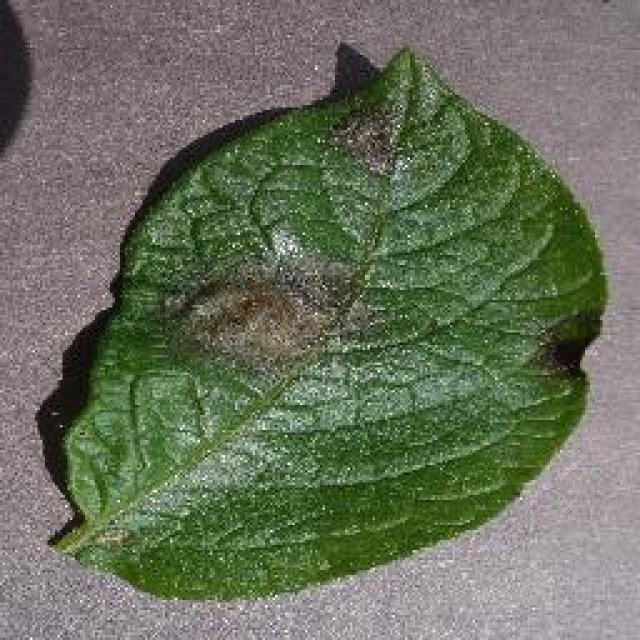late_blight: (45, 37, 610, 605)
